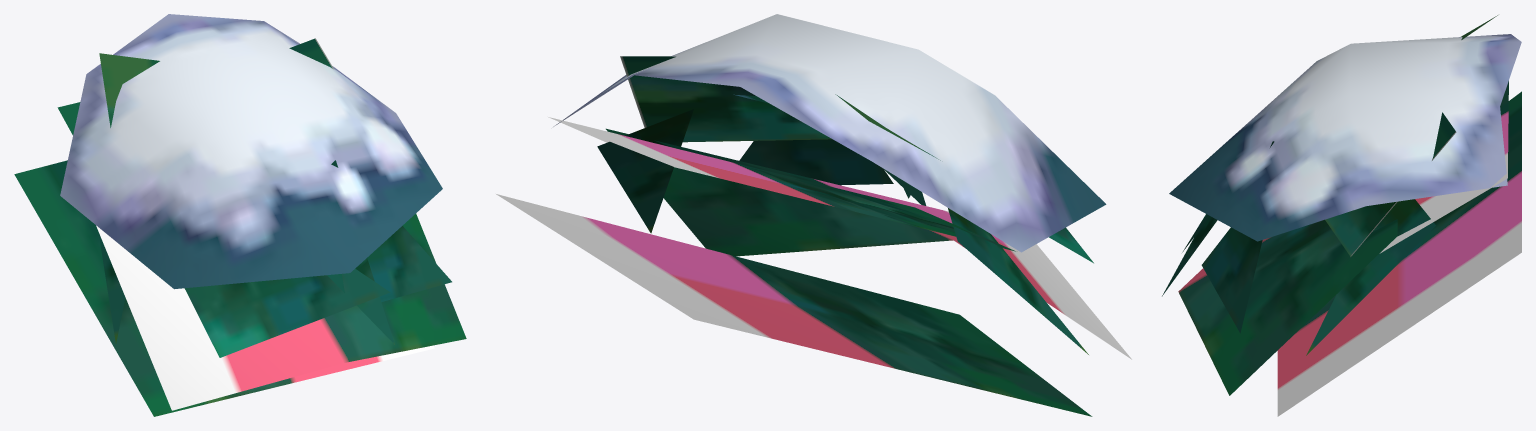
The model's file is fg_bushA_2_s.dae.
3 renders of one model, left to right at view 1: azimuth 30°, elevation 25°; view 2: azimuth 150°, elevation 25°; view 3: azimuth 270°, elevation 25°, orthographic. The views are drawn at different scales.
Visible parts, largest first — view 1: fg_bushA_2_s; view 2: fg_bushA_2_s; view 3: fg_bushA_2_s.
Part boxes in pixels (box(x1,y1,x2,y2)): fg_bushA_2_s: box(14, 14, 466, 416); fg_bushA_2_s: box(496, 14, 1131, 416); fg_bushA_2_s: box(1162, 15, 1521, 416).
Size of the model in its own units: 42.31 by 35.32 by 38.65.
Materials: 1 (1 with a texture image).
